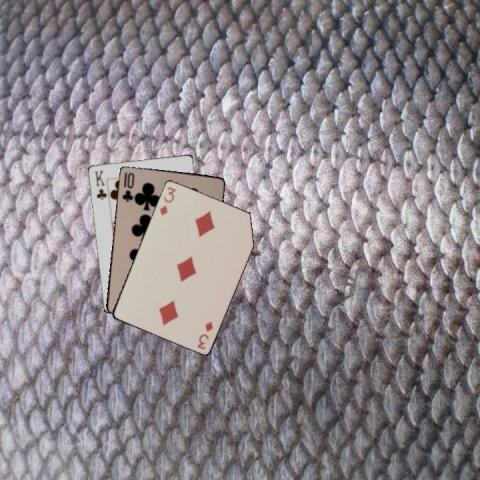10c: (120, 170, 136, 204)
3d: (157, 183, 177, 217), (194, 318, 214, 351)
Kc: (92, 168, 108, 202)
